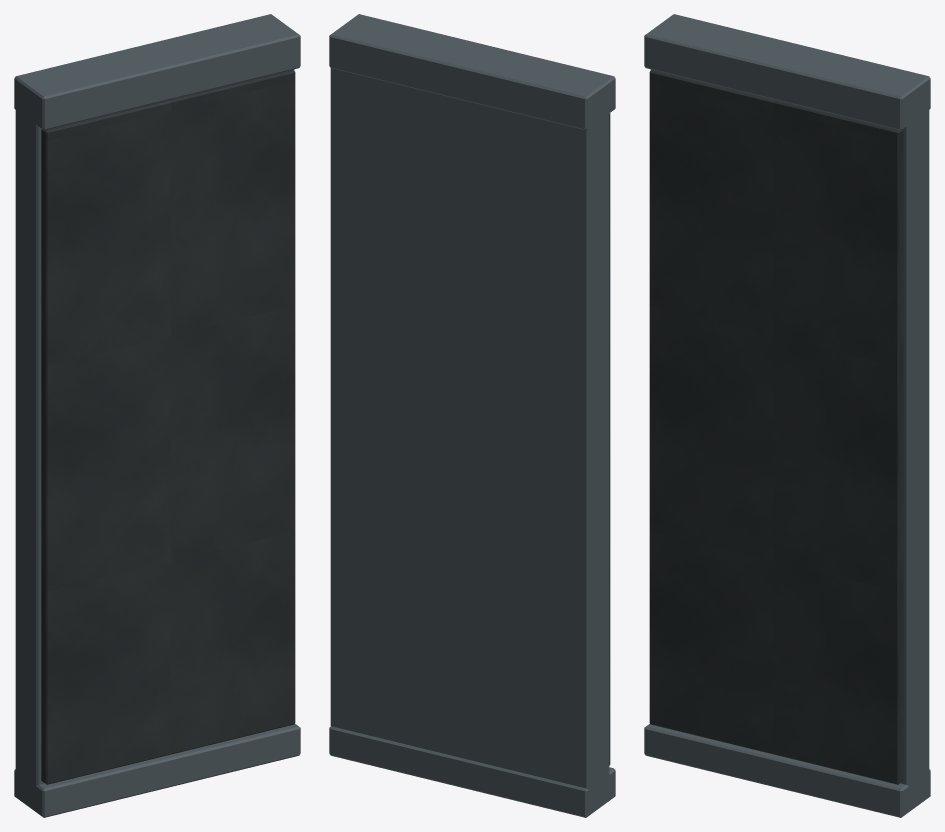
File: WallPanel.glb
3 renders of one model, left to right at view 1: azimuth 30°, elevation 25°; view 2: azimuth 150°, elevation 25°; view 3: azimuth 330°, elevation 25°, orthographic.
Visible parts, largest first — view 1: WallPanel__Powdercoat__mesh, WallPanel__BlackenedSteel__mesh; view 2: WallPanel__BlackenedSteel__mesh, WallPanel__Powdercoat__mesh; view 3: WallPanel__Powdercoat__mesh, WallPanel__BlackenedSteel__mesh.
Boxes of the visible parts, x1=… form: WallPanel__Powdercoat__mesh: x1=41, y1=69, x2=295, y2=784; WallPanel__BlackenedSteel__mesh: x1=14, y1=14, x2=300, y2=817; WallPanel__BlackenedSteel__mesh: x1=329, y1=14, x2=615, y2=817; WallPanel__Powdercoat__mesh: x1=609, y1=113, x2=610, y2=765; WallPanel__Powdercoat__mesh: x1=649, y1=69, x2=903, y2=784; WallPanel__BlackenedSteel__mesh: x1=644, y1=14, x2=930, y2=817.
Bounding box in the file's own units: 1.2 × 3.2 × 0.24.
Materials: 2 (1 with a texture image).
